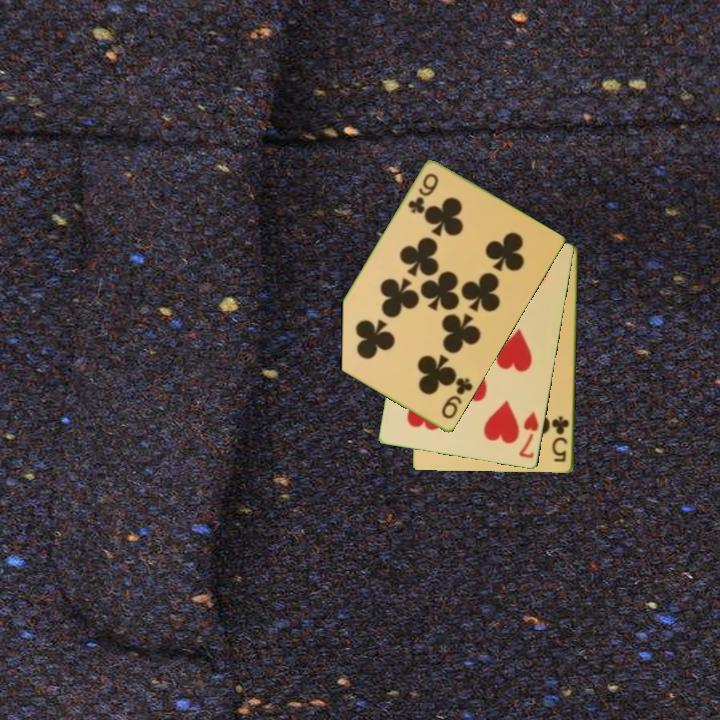5c: (549, 413, 572, 465)
7h: (516, 408, 542, 461)
9c: (438, 374, 476, 422), (404, 170, 442, 217)
